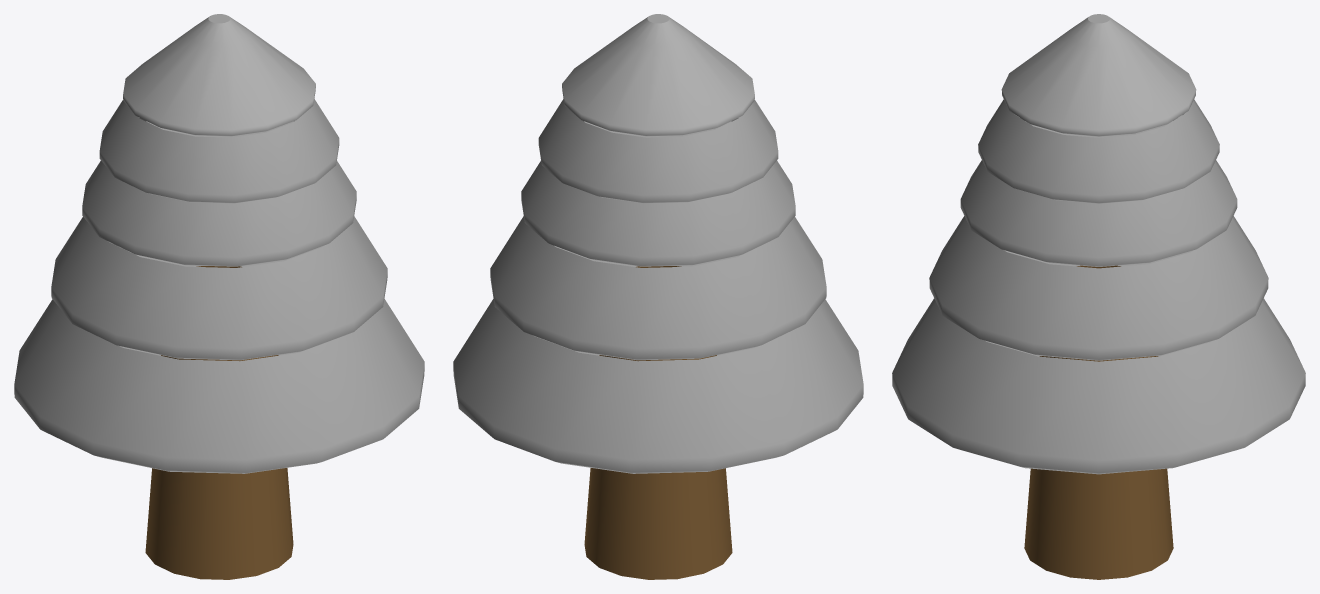
The model's file is Tree1.fbx.
3 views of the same model, side by side, from view 1: azimuth 30°, elevation 25°; view 2: azimuth 150°, elevation 25°; view 3: azimuth 270°, elevation 25° (orthographic).
Visible parts, largest first — view 1: Tree; view 2: Tree; view 3: Tree.
Part boxes in pixels (bbox=[...]): Tree: bbox=[14, 14, 424, 579]; Tree: bbox=[453, 14, 863, 579]; Tree: bbox=[892, 14, 1305, 579].
Size of the model in its own units: 1.34 by 1.89 by 1.34.
